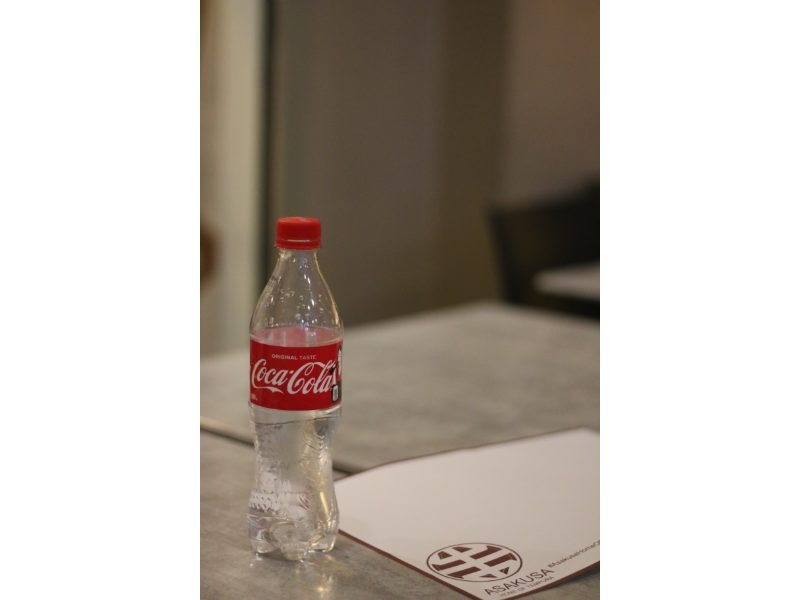PET #1: (246, 210, 346, 568)
